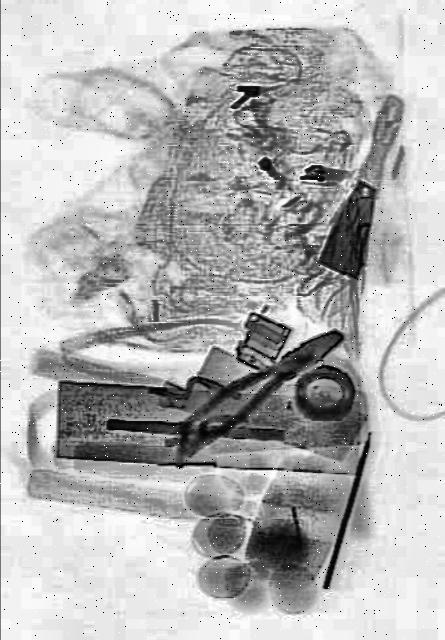Pliers: (167, 316, 350, 466)
